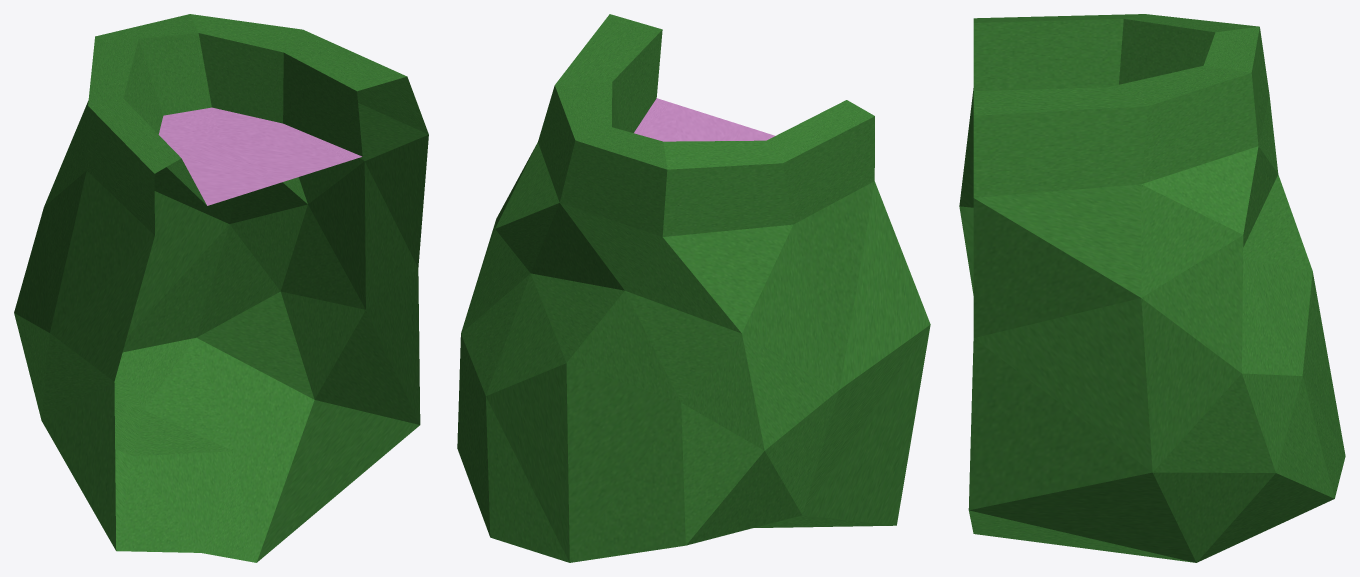
Rendered from cave_0.fbx.
3 renders of one model, left to right at view 1: azimuth 30°, elevation 25°; view 2: azimuth 150°, elevation 25°; view 3: azimuth 270°, elevation 25°, orthographic. The views are drawn at different scales.
Parts seen in each view (by area): view 1: Icosphere.032; view 2: Icosphere.032; view 3: Icosphere.032.
Boxes of the visible parts, box(x1,y1,x2,y2) form: Icosphere.032: box(14, 14, 428, 562); Icosphere.032: box(457, 14, 930, 562); Icosphere.032: box(959, 14, 1345, 562).
Bounding box in the file's own units: 1036 × 1315 × 921.
